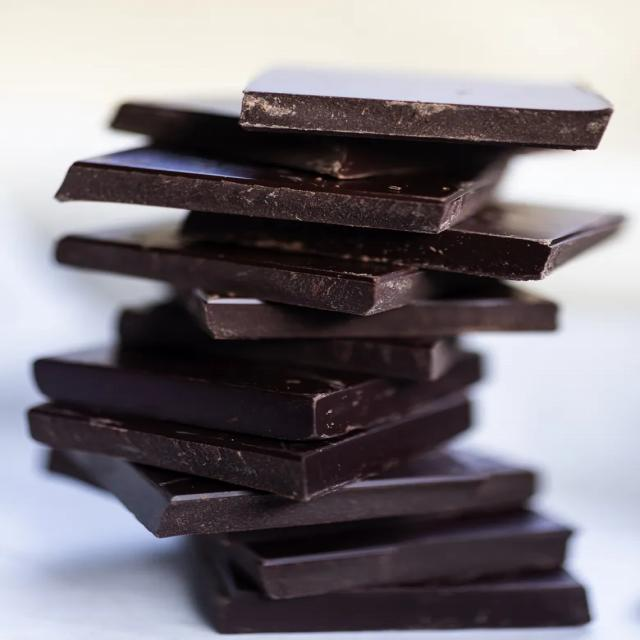Chocolate: (33, 66, 640, 632)
